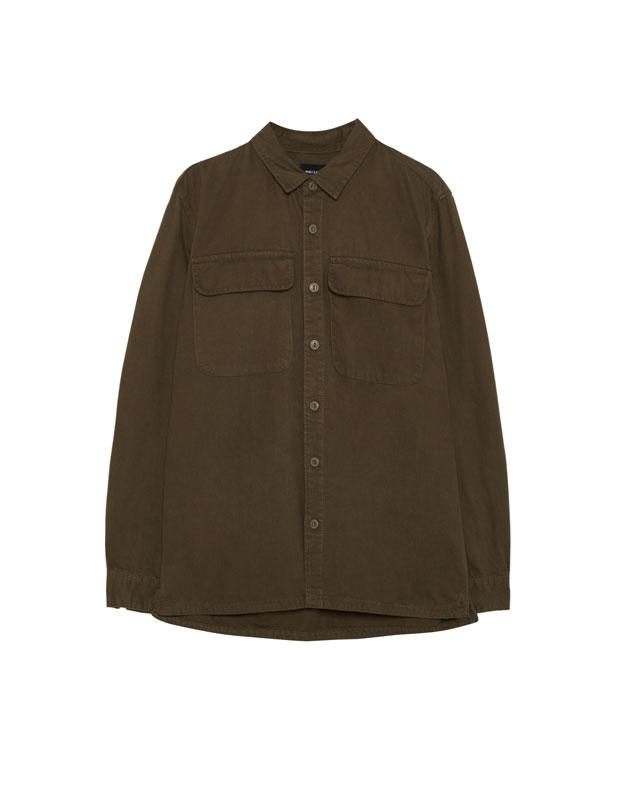teeshirt: (81, 116, 528, 653)
